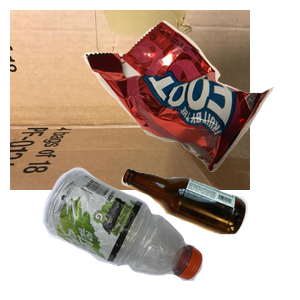cardboard: (10, 10, 250, 190)
glass: (119, 166, 300, 300)
plastic: (40, 165, 235, 300)
trash: (81, 18, 300, 182)
